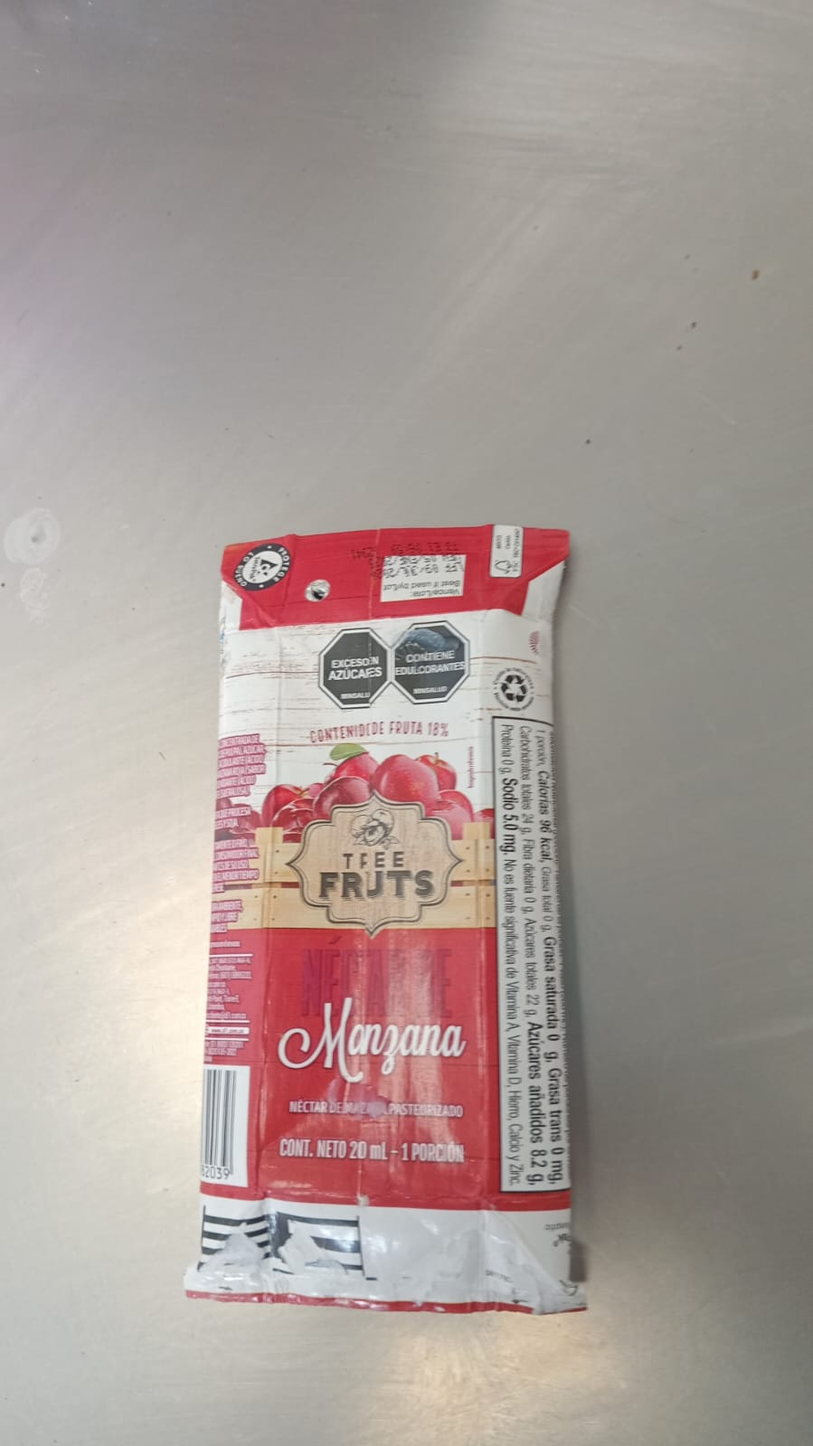Carton: (186, 526, 593, 1315)
